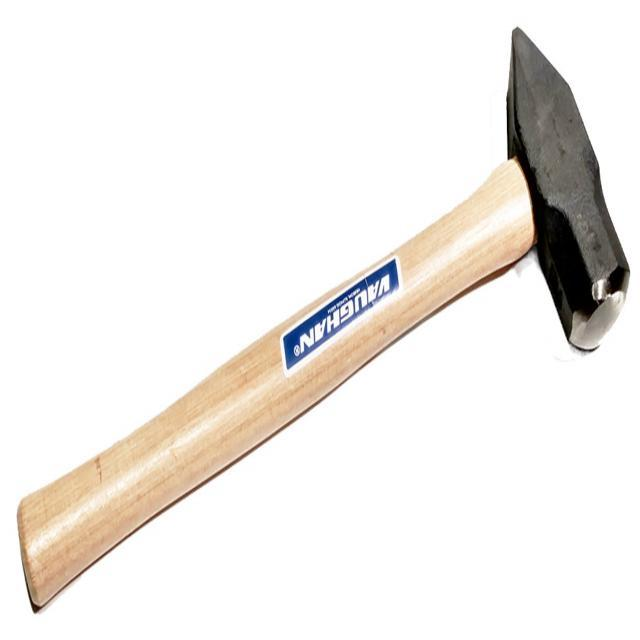hammer: (14, 20, 632, 618)
